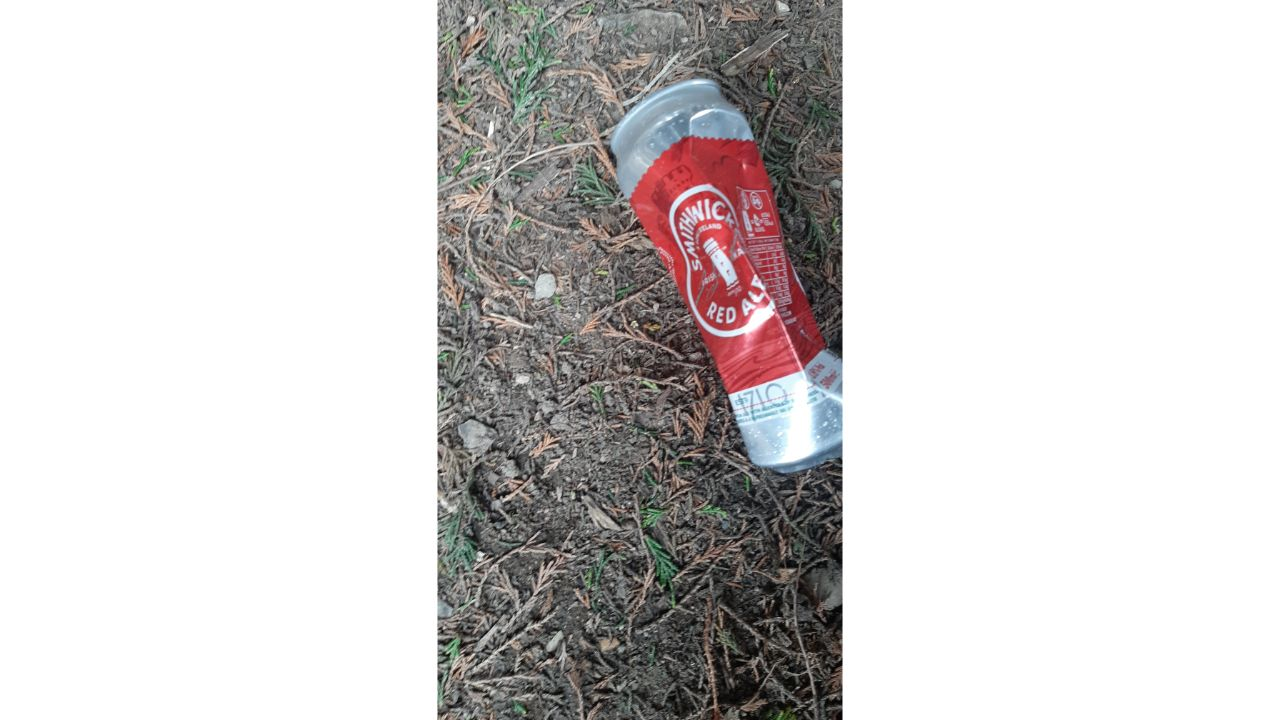Can: (605, 80, 842, 483)
